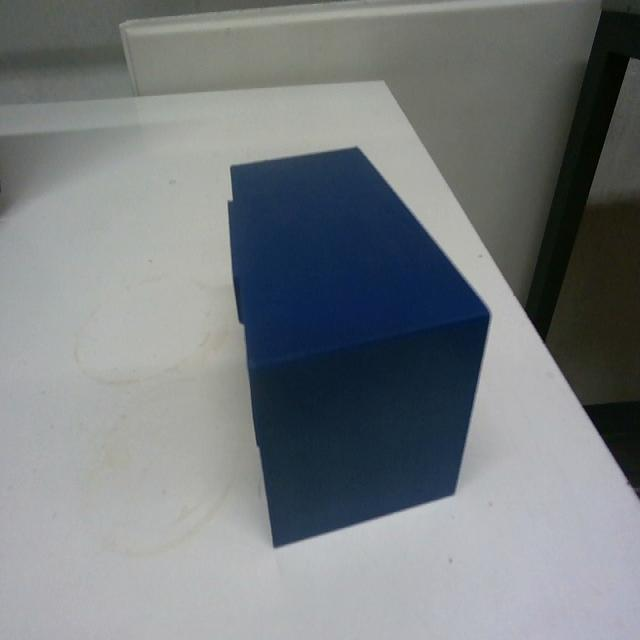Blue Cuboid: (224, 141, 492, 548)
